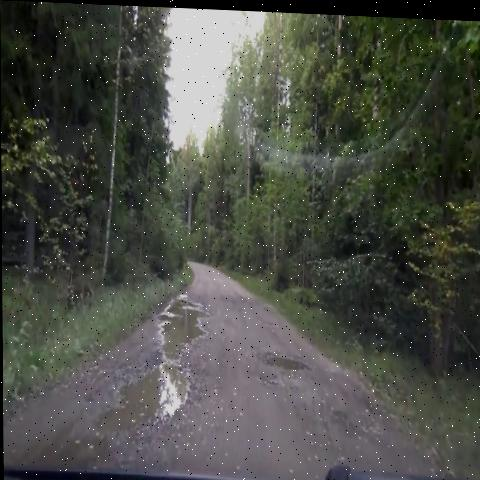pothole: (75, 355, 204, 460), (148, 289, 217, 364), (251, 340, 313, 394)
